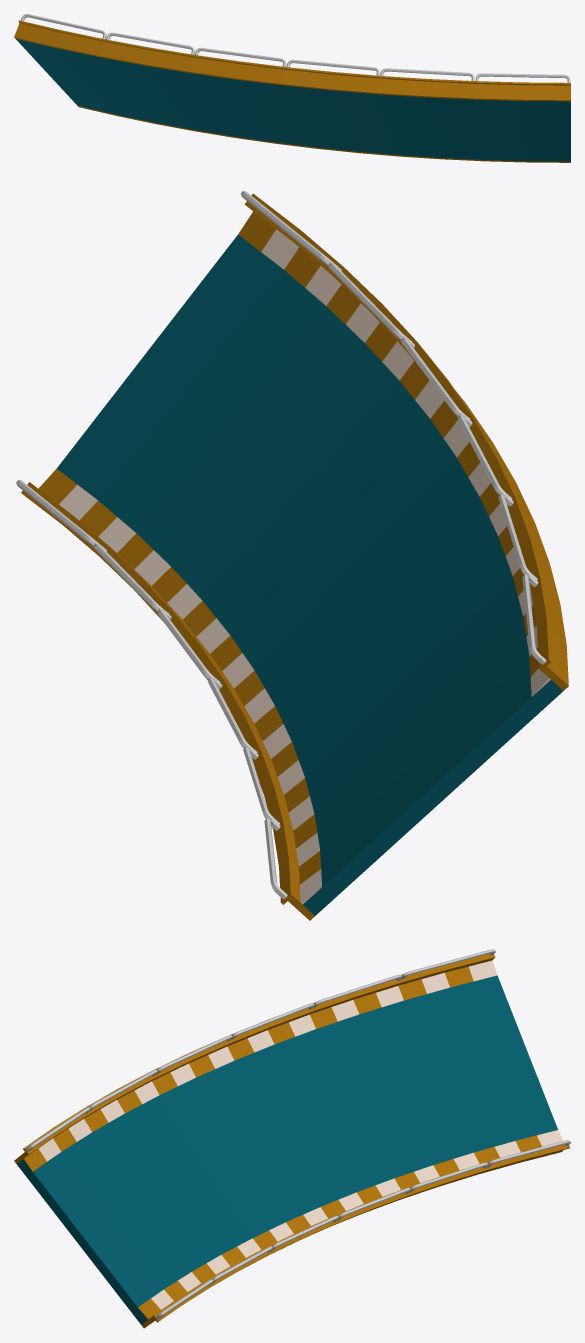
File: bankedLeft-30-45_l.FBX
3 renders of one model, top to bottom at view 1: azimuth 30°, elevation 25°; view 2: azimuth 150°, elevation 25°; view 3: azimuth 270°, elevation 25°, orthographic. The views are drawn at different scales.
Parts seen in each view (by area): view 1: bankedLeft-30-45_l, wall_r, wall_l; view 2: bankedLeft-30-45_l, curbs_l, wall_r, curbs_r, wall_l; view 3: bankedLeft-30-45_l, curbs_r, curbs_l, wall_r, wall_l.
Boxes of the visible parts, bbox=[...] form: bankedLeft-30-45_l: bbox=[15, 38, 570, 161]; wall_r: bbox=[14, 14, 570, 101]; wall_l: bbox=[78, 106, 570, 162]; bankedLeft-30-45_l: bbox=[57, 234, 563, 915]; curbs_l: bbox=[38, 468, 321, 904]; wall_r: bbox=[240, 191, 568, 690]; curbs_r: bbox=[238, 211, 550, 696]; wall_l: bbox=[16, 480, 314, 920]; bankedLeft-30-45_l: bbox=[17, 975, 557, 1324]; curbs_r: bbox=[23, 960, 497, 1171]; curbs_l: bbox=[138, 1130, 562, 1319]; wall_r: bbox=[14, 949, 495, 1163]; wall_l: bbox=[141, 1140, 570, 1328].
Size of what is drawn, in the model's own units: 525 by 163 by 525.
